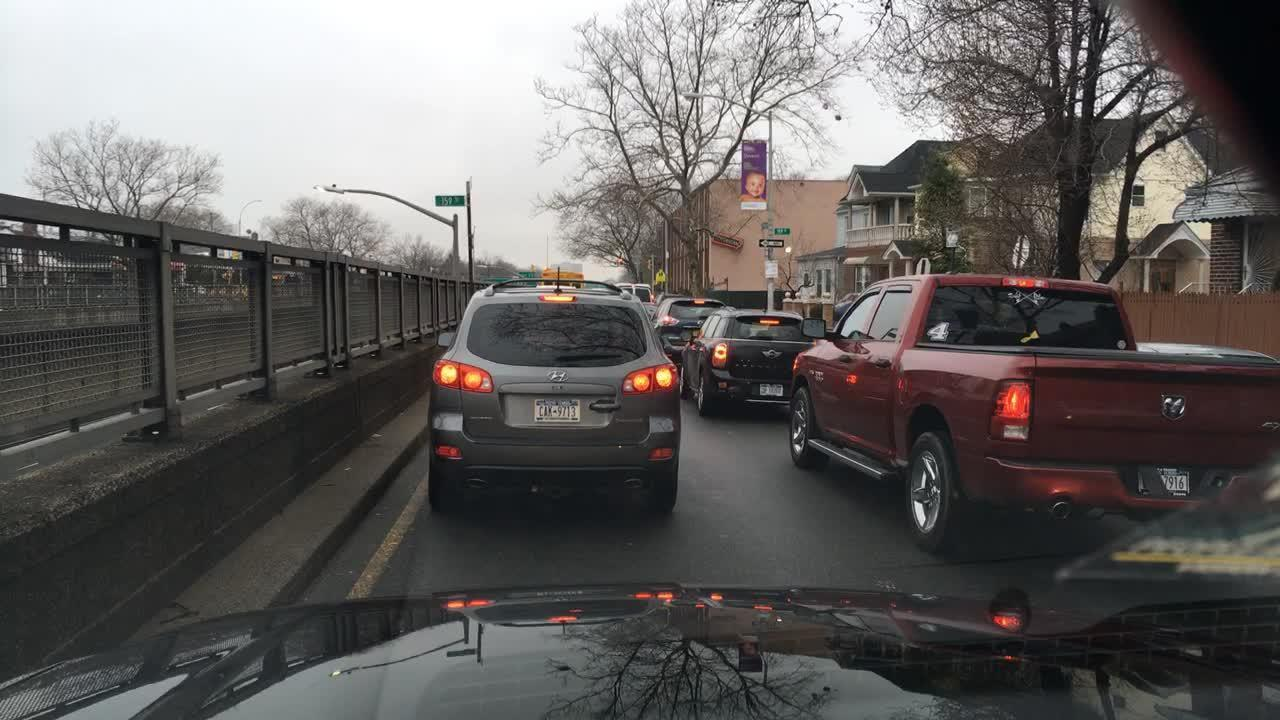Hyundai: (544, 362, 573, 385)
